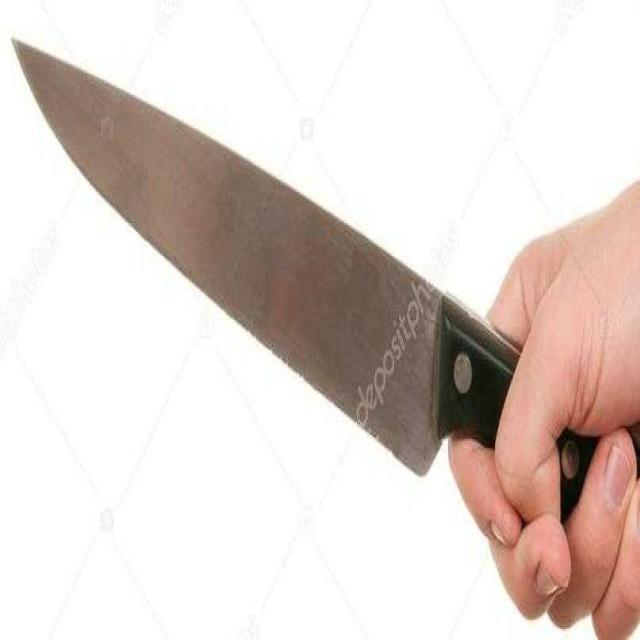Knife: (1, 15, 628, 566)
